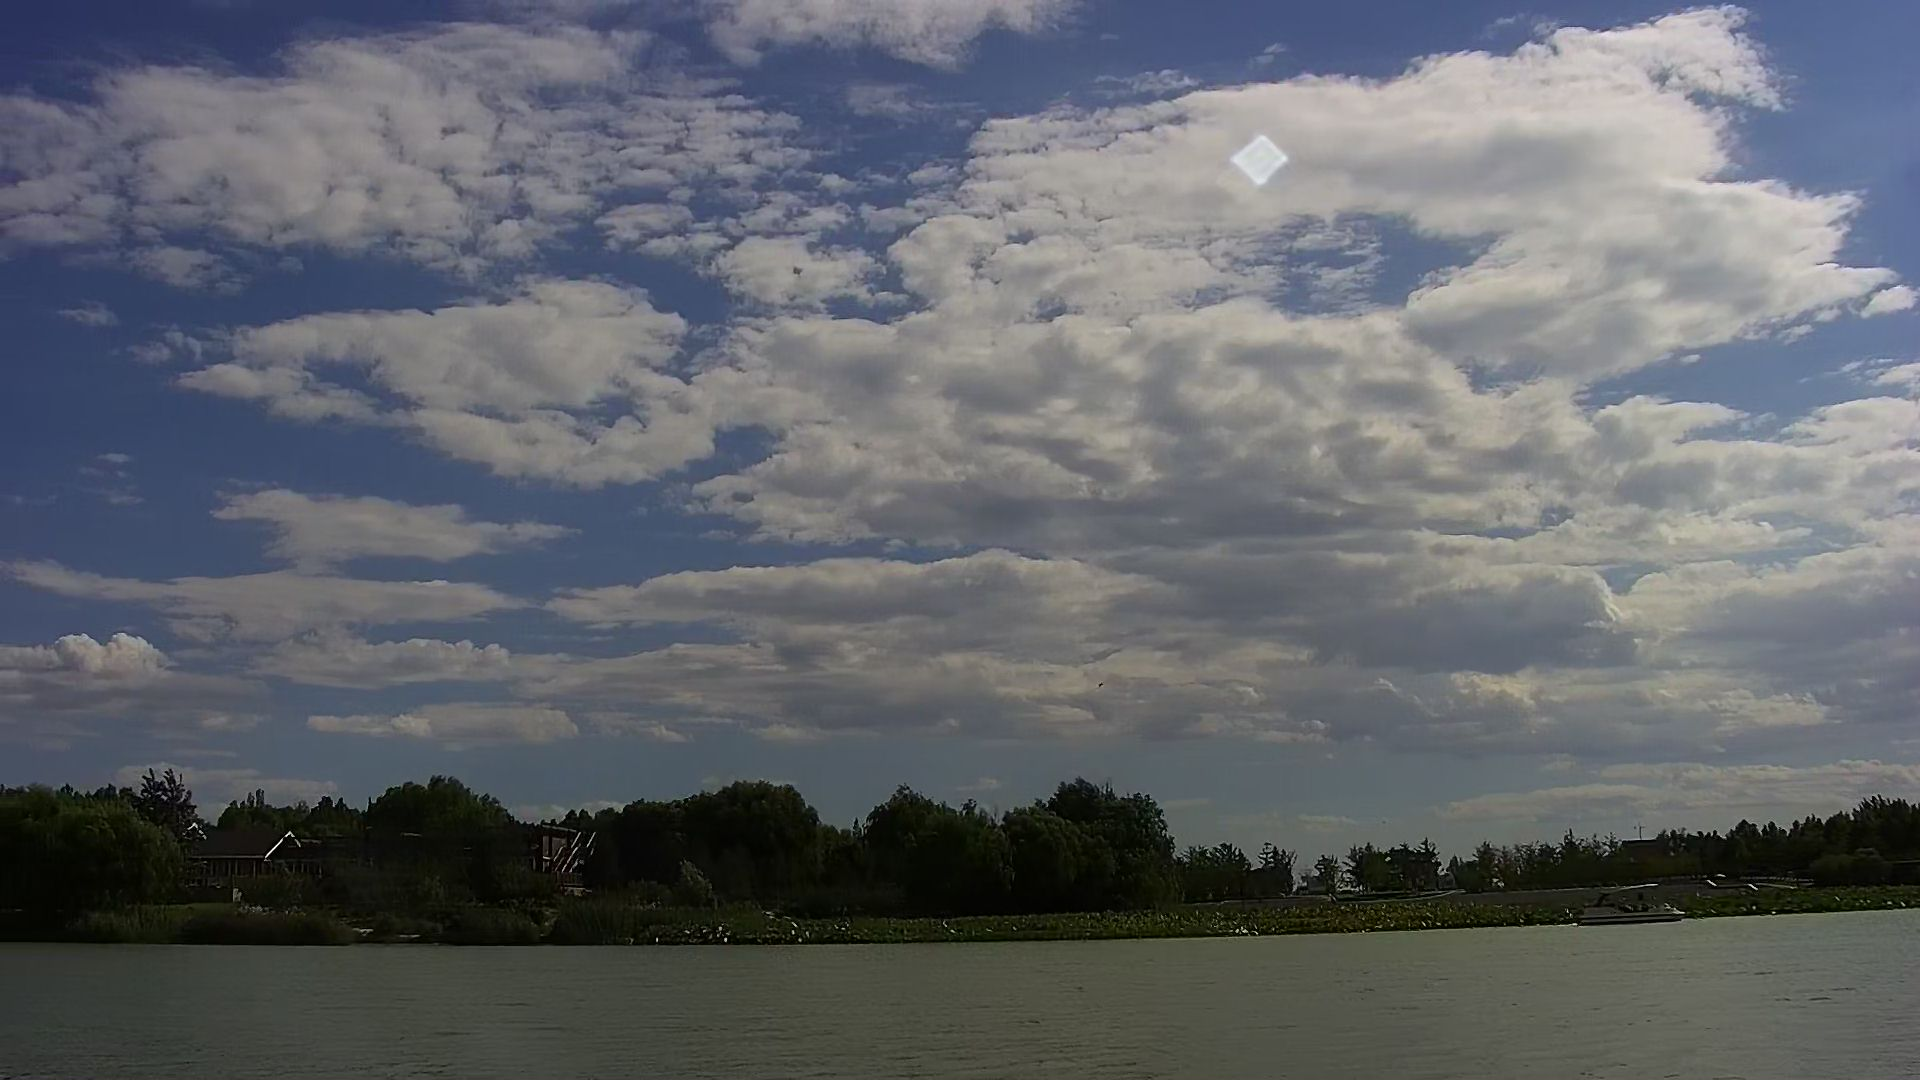boat: (1569, 877, 1700, 931)
